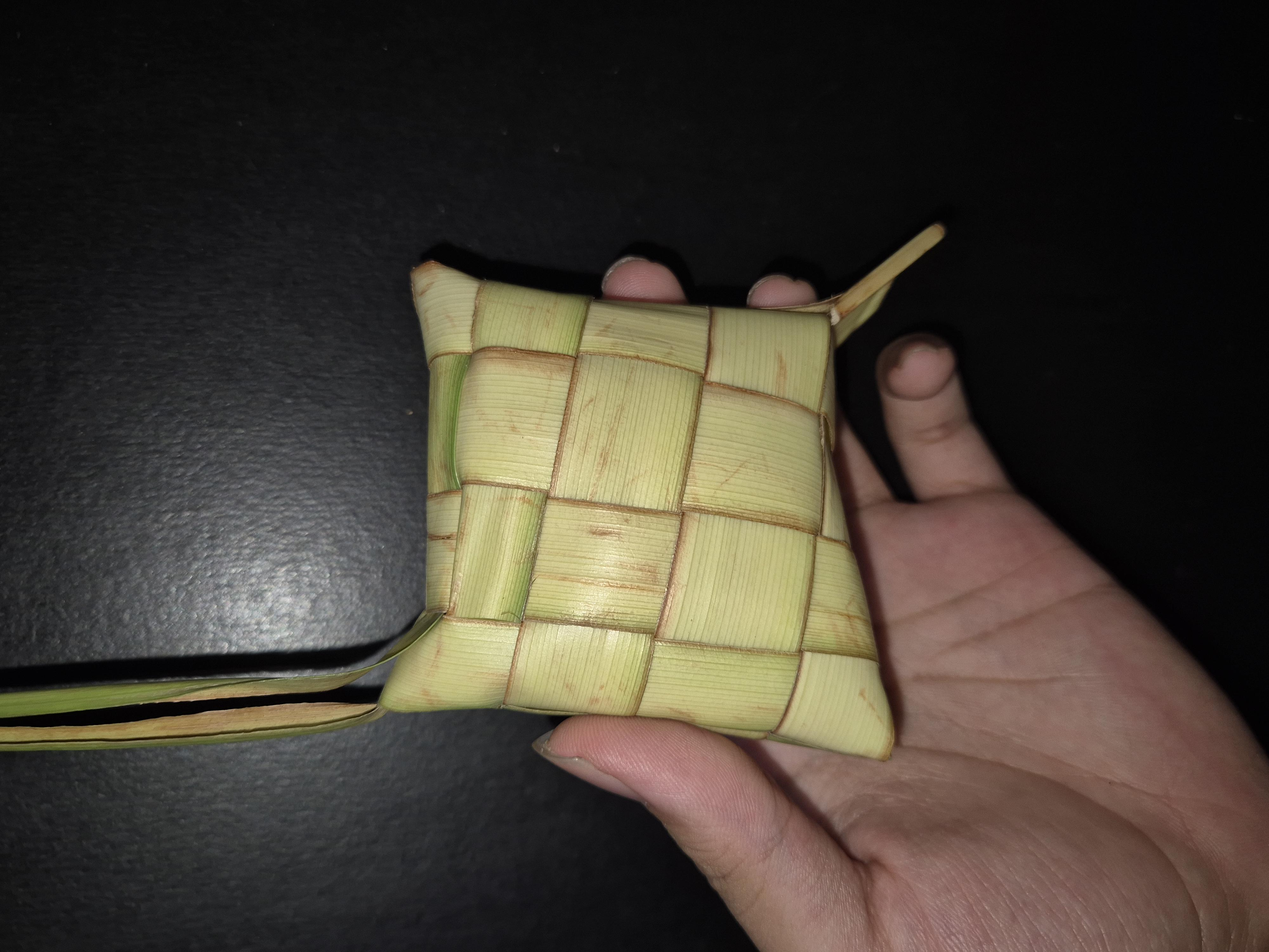Tipat Nasi: (258, 287, 918, 670)
